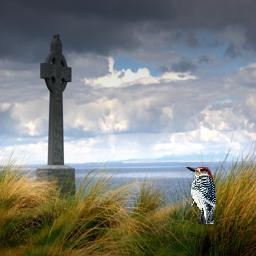Woodpecker: (185, 164, 218, 225)
